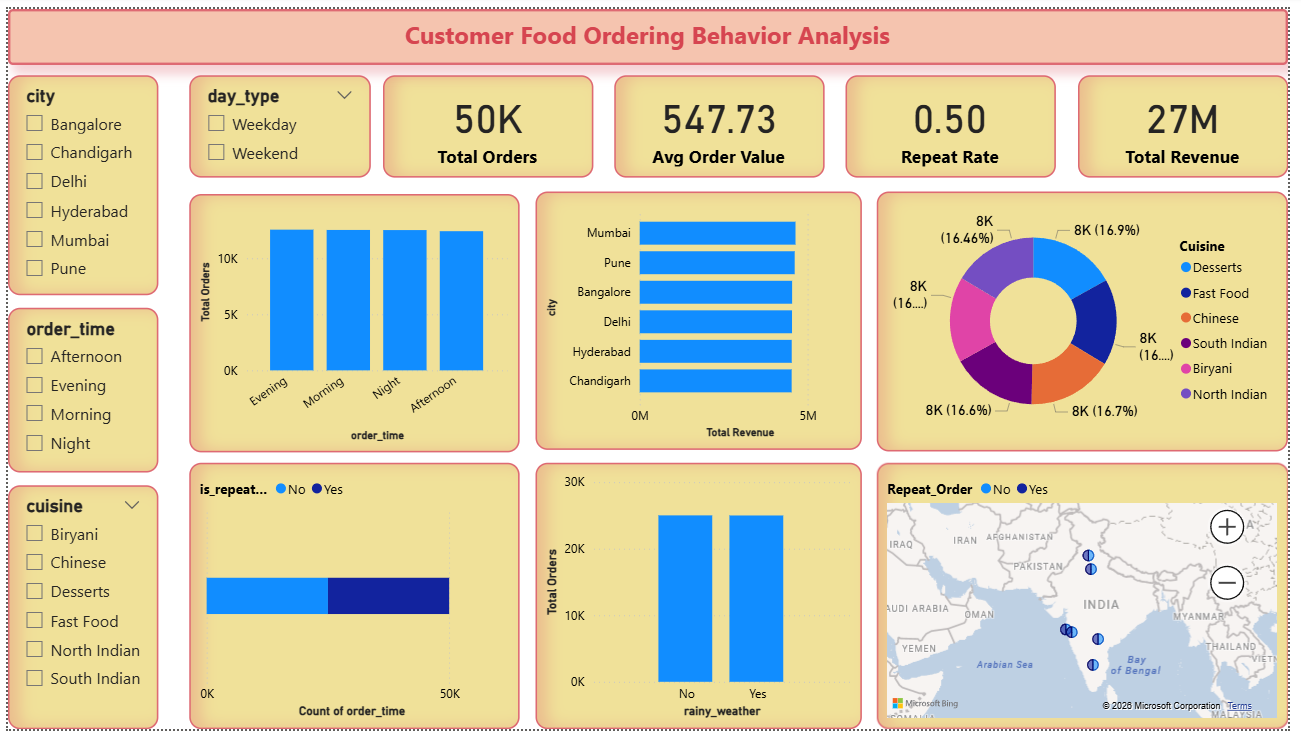

What the dashboard file says about the page in this screenshot:
{"tool":"powerbi","page":{"name":"Page 1","canvas":[1280,720],"ordinal":0},"visuals":[{"type":"card","fields":{"Values":["order.Total Orders"]},"box":[375,66.2,210,102.5],"z":0},{"type":"textbox","box":[0,0,1280,56.2],"z":1000},{"type":"card","fields":{"Values":["order.Avg Order Value"]},"box":[606.2,66.2,210,102.5],"z":2000},{"type":"card","fields":{"Values":["order.Total Revenue"]},"box":[1070,66.2,210,102.5],"z":3000},{"type":"card","fields":{"Values":["order.Repeat Rate"]},"box":[837.5,66.2,210,102.5],"z":4000},{"type":"clusteredColumnChart","fields":{"Y":["order.Total Orders"],"Category":["order.order_time"]},"box":[181.2,185,330,258.8],"z":5000},{"type":"clusteredBarChart","fields":{"Y":["order.Total Revenue"],"Category":["order.city"]},"box":[527.5,182.5,326.2,258.8],"z":6000},{"type":"donutChart","fields":{"Y":["order.Total Orders"],"Category":["order.cuisine"]},"box":[868.8,182.5,411.2,260],"z":7000},{"type":"barChart","fields":{"Series":["order.is_repeat_order"],"Y":["CountNonNull(order.order_time)"]},"box":[181.2,453.8,330,266.2],"z":8000},{"type":"clusteredColumnChart","fields":{"Category":["order.rainy_weather"],"Y":["order.Total Orders"]},"box":[527.5,453.8,326.2,266.2],"z":9000},{"type":"slicer","fields":{"Values":["order.cuisine"]},"box":[0,476.2,150,243.8],"z":10000},{"type":"slicer","fields":{"Values":["order.order_time"]},"box":[0,298.8,150,165],"z":11000},{"type":"slicer","fields":{"Values":["order.day_type"]},"box":[181.2,66.2,181.2,102.5],"z":12000},{"type":"slicer","fields":{"Values":["order.city"]},"box":[0,66.2,150,220],"z":13000},{"type":"map","fields":{"Category":["order.city"],"Series":["order.is_repeat_order"]},"box":[868.6,453.5,411.6,266.3],"z":14000}]}

Visuals, with their boxes in screenshot pixels (x1, y1, x2, y2), scaled from the page's 1280x720 canvas onto the 1301x738 screenshot:
card - order.Total Orders: rect(381, 68, 595, 173)
textbox: rect(0, 0, 1300, 58)
card - order.Avg Order Value: rect(616, 68, 830, 173)
card - order.Total Revenue: rect(1088, 68, 1300, 173)
card - order.Repeat Rate: rect(851, 68, 1065, 173)
clusteredColumnChart - order.Total Orders x order.order_time: rect(184, 190, 520, 455)
clusteredBarChart - order.Total Revenue x order.city: rect(536, 187, 868, 452)
donutChart - order.Total Orders x order.cuisine: rect(883, 187, 1300, 454)
barChart - order.is_repeat_order x CountNonNull(order.order_time): rect(184, 465, 520, 737)
clusteredColumnChart - order.rainy_weather x order.Total Orders: rect(536, 465, 868, 737)
slicer - order.cuisine: rect(0, 488, 152, 737)
slicer - order.order_time: rect(0, 306, 152, 475)
slicer - order.day_type: rect(184, 68, 368, 173)
slicer - order.city: rect(0, 68, 152, 293)
map - order.city x order.is_repeat_order: rect(883, 465, 1300, 737)
